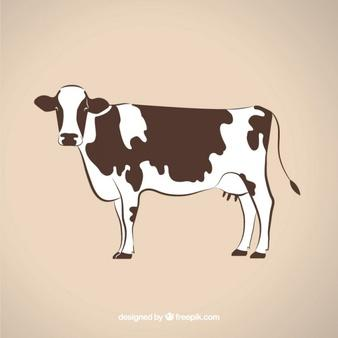cow: (33, 84, 275, 260)
